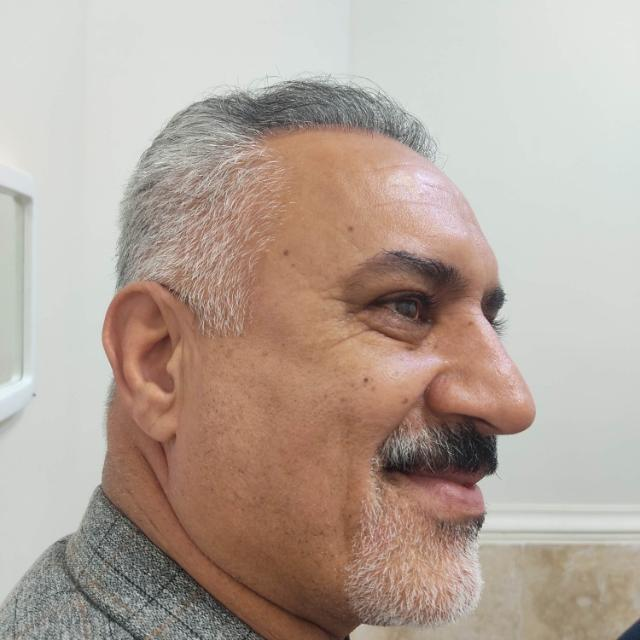crows_feet: (323, 284, 357, 314)
forehead: (369, 150, 407, 177)
